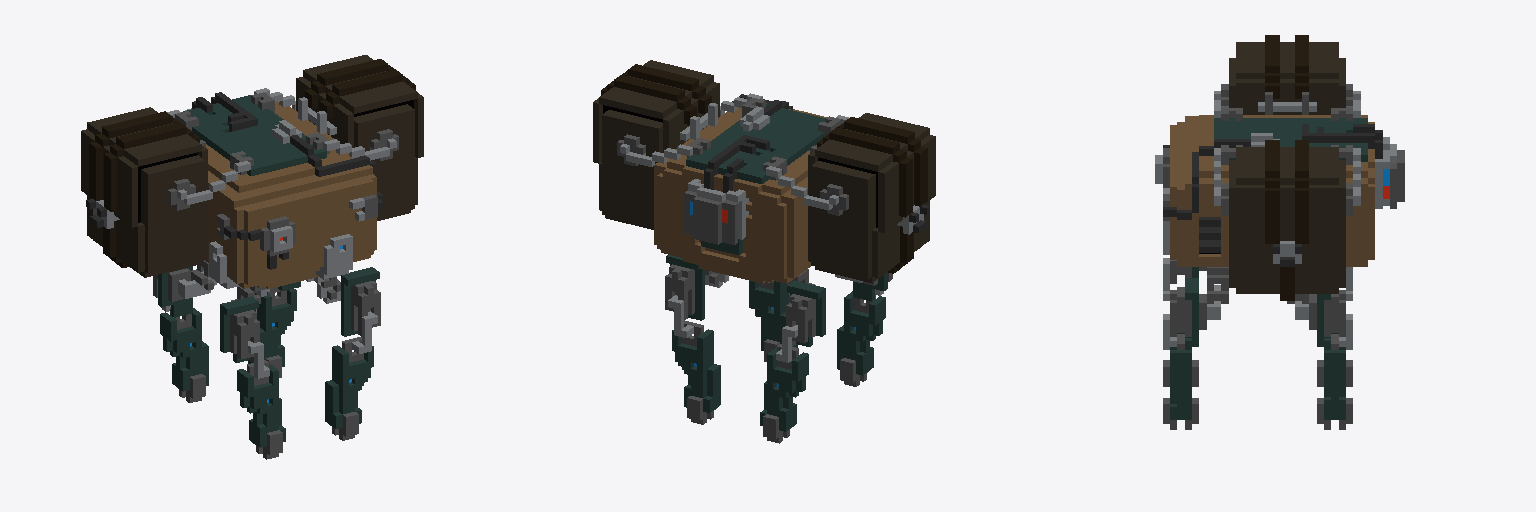
The picture shows the model from 3 angles: view 1: azimuth 30°, elevation 25°; view 2: azimuth 150°, elevation 25°; view 3: azimuth 270°, elevation 25°; orthographic projection.
Visible parts, largest first — view 1: object 1; view 2: object 1; view 3: object 1.
Part boxes in pixels (bbox=[...]): object 1: bbox=[81, 55, 423, 459]; object 1: bbox=[593, 60, 935, 443]; object 1: bbox=[1155, 35, 1404, 429].
Bounding box in the file's own units: 5 × 4.6 × 3.4.
Materials: 1 (1 with a texture image).